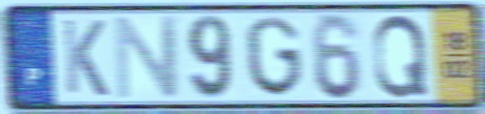6: (308, 9, 364, 103)
9: (186, 13, 239, 102)
G: (242, 15, 306, 100)
K: (59, 17, 111, 100)
N: (111, 13, 182, 102)
Q: (371, 12, 431, 101)
